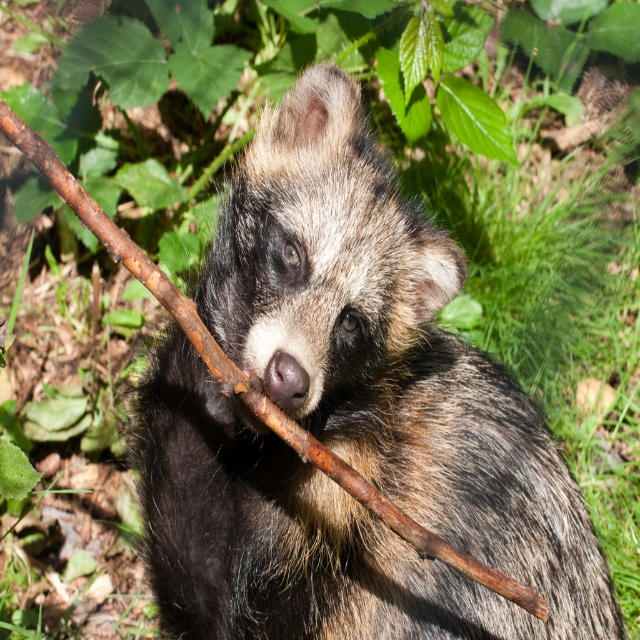Raccoon: (105, 52, 629, 640)
